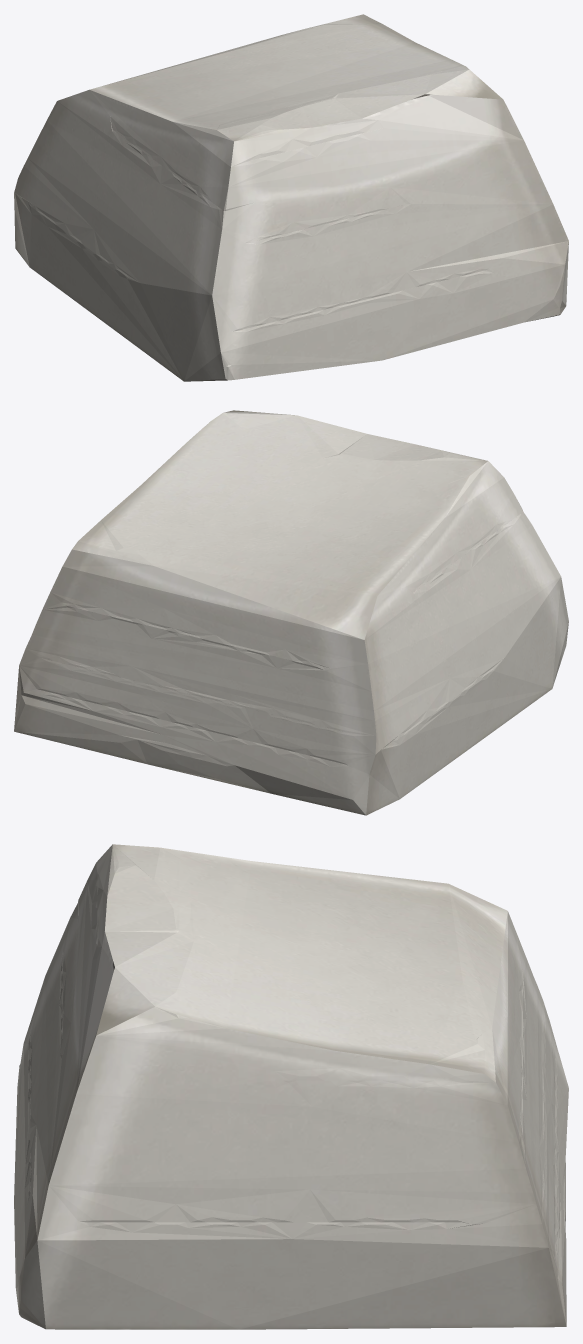
Rendered from keycap1u.glb.
3 renders of one model, top to bottom at view 1: azimuth 30°, elevation 25°; view 2: azimuth 150°, elevation 25°; view 3: azimuth 270°, elevation 25°, orthographic. The views are drawn at different scales.
Visible parts, largest first — view 1: keycap1u; view 2: keycap1u; view 3: keycap1u.
Boxes of the visible parts, left/top/right/bottom form: keycap1u: left=14, top=14, right=568, bottom=381; keycap1u: left=14, top=410, right=568, bottom=815; keycap1u: left=14, top=844, right=568, bottom=1329.
Bounding box in the file's own units: 17.98 × 10.5 × 18.06.
Materials: 1 (1 with a texture image).
